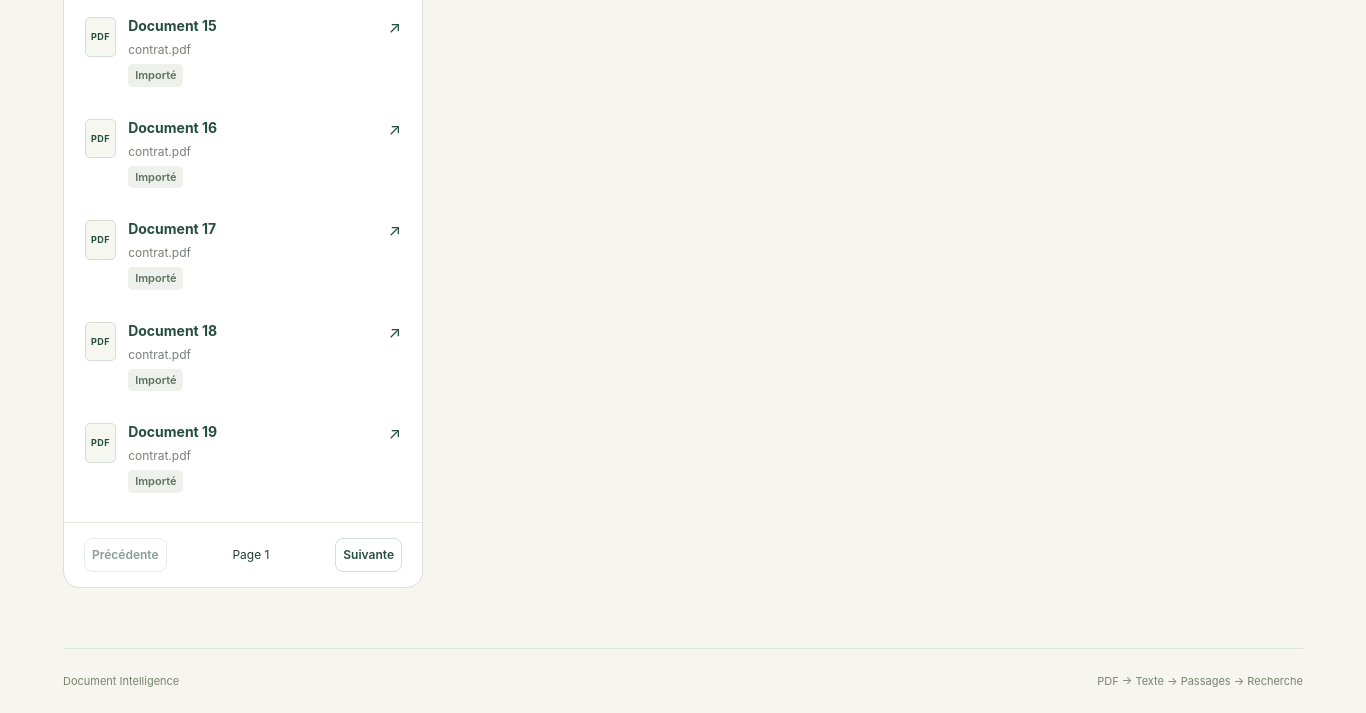
Scenario: Documents › requests the next page without dropping the extra lookahead document
(page scrolled)
Click the button "Suivante" at (369, 555), box x1=335 y1=538 x2=402 y2=572
(page scrolled)
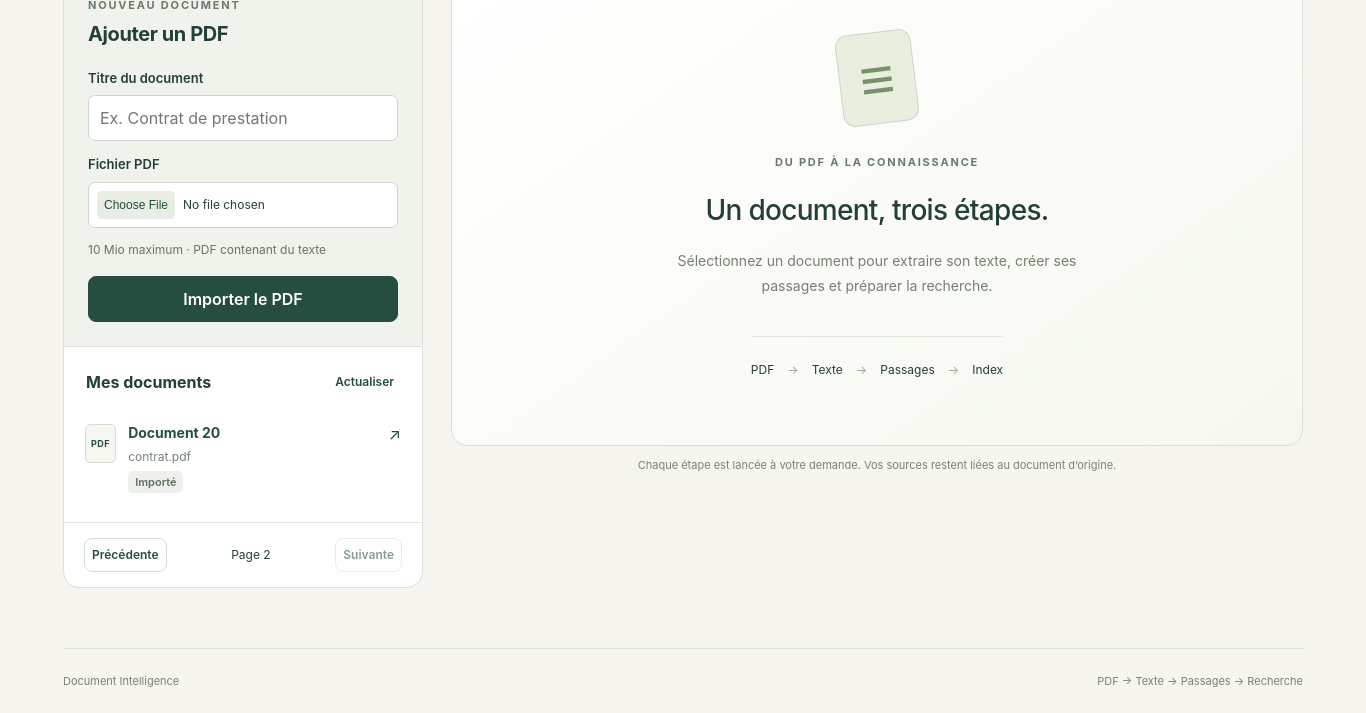
Expected: the button "PDF Document 20 contrat.pdf Importé ↗" is shown, x1=74 y1=407 x2=412 y2=508
Expected: the button "Suivante" is disabled, x1=335 y1=538 x2=402 y2=572
Expected: the button "Précédente" is enabled, x1=84 y1=538 x2=167 y2=572
